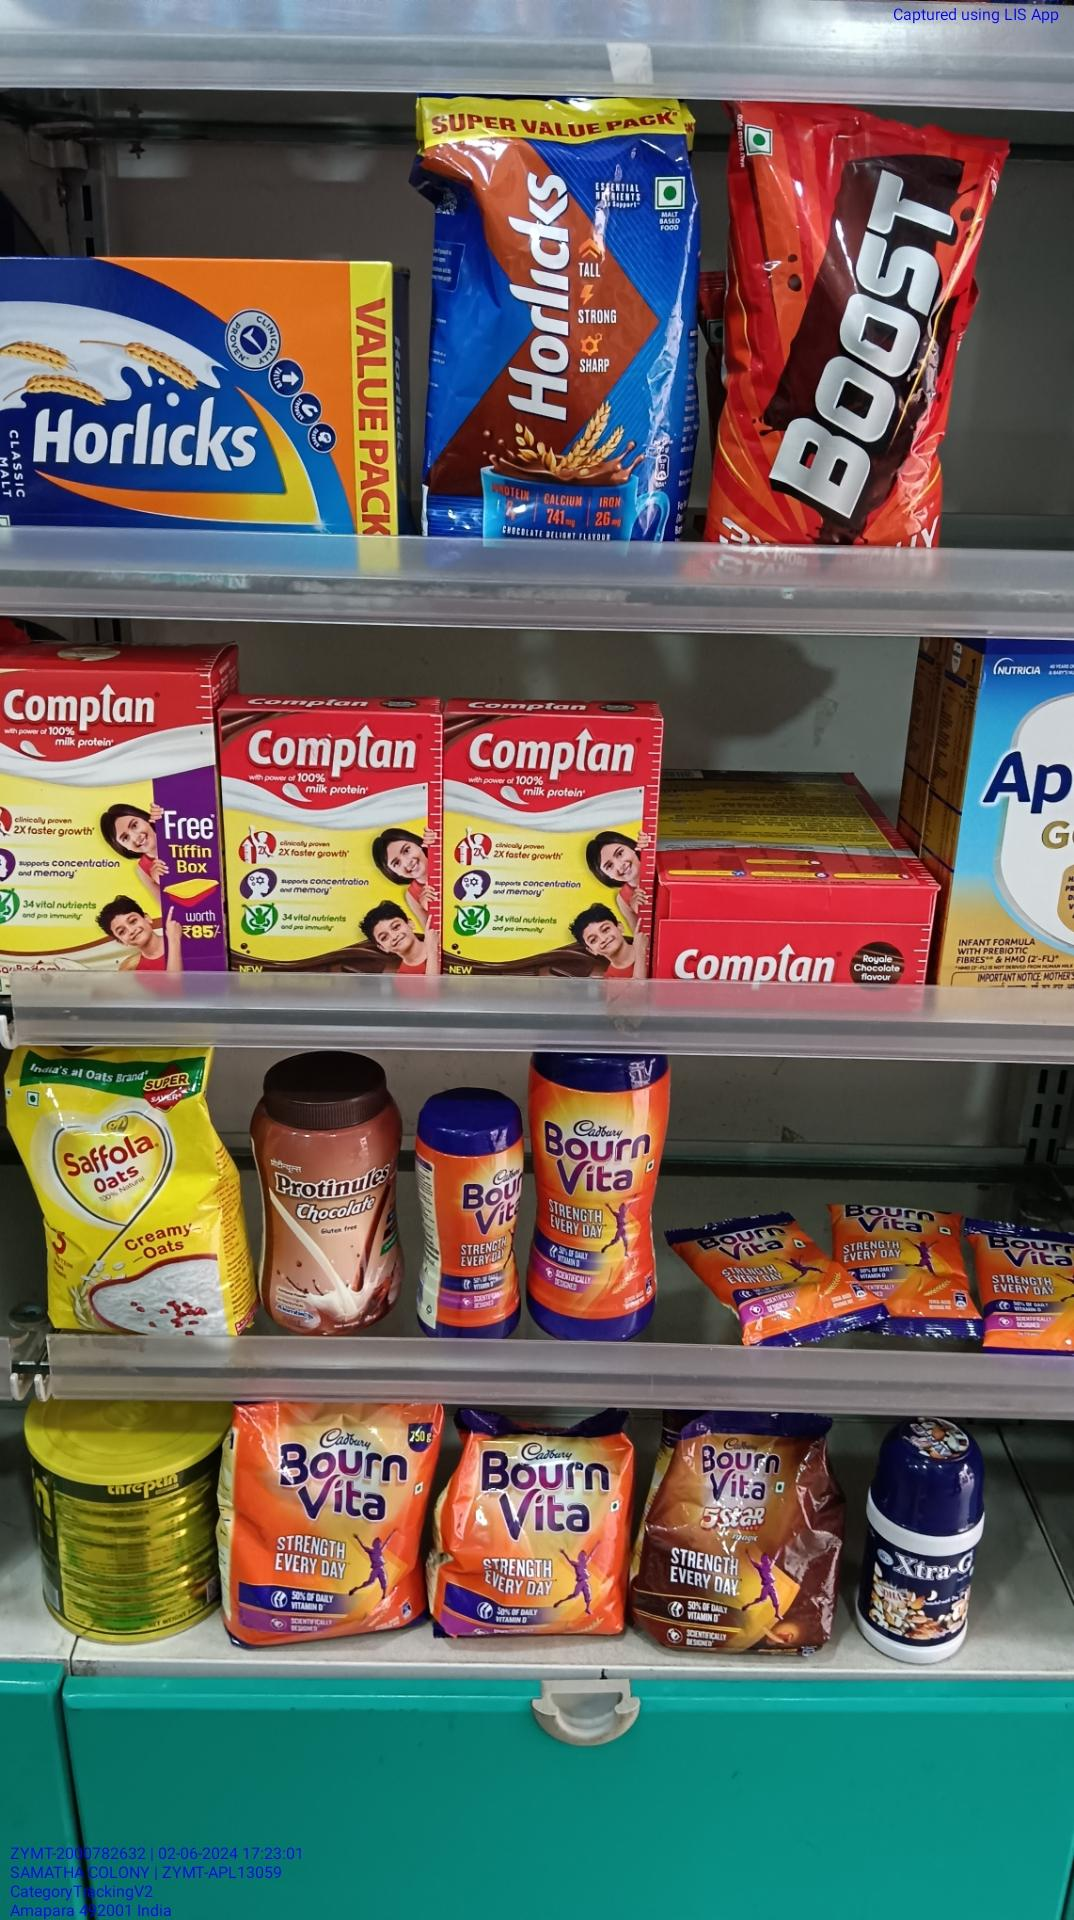BOURN_VITA_200_G_JAR: (416, 1092, 525, 1344)
BOURN_VITA_500_G_JAR: (538, 1050, 662, 1337)
BOURN_VITA_500_G_POUCH: (439, 1404, 625, 1636)
BOURN_VITA_750_G_POUCH: (224, 1399, 429, 1638)
BOURN_VITA_FIVE_STAR_MAGIC_500_G_POUCH: (649, 1412, 835, 1651)
HORLICK_CHOCOLATE_750_G_POUCH: (422, 90, 687, 570)
